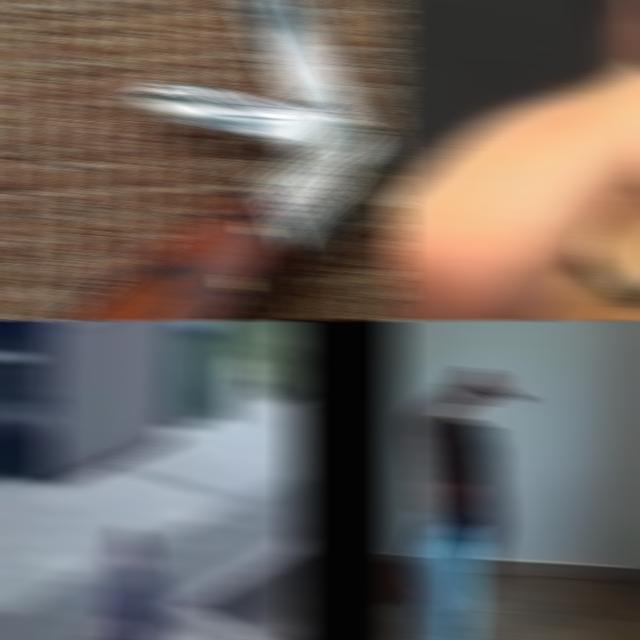Knife: (475, 382, 526, 404)
Knife_Handle: (457, 370, 526, 408)
